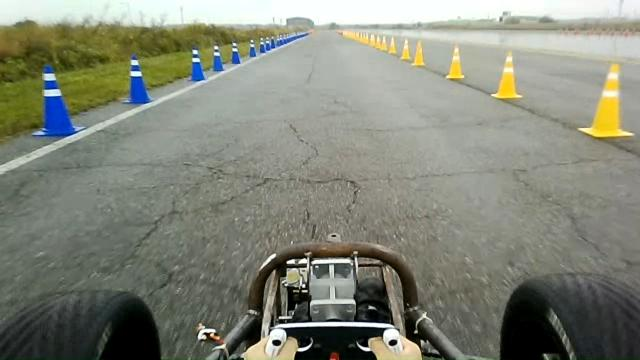blue cone: (31, 64, 86, 136), (122, 53, 154, 104), (187, 45, 206, 81), (212, 43, 224, 71), (230, 40, 241, 64), (248, 38, 257, 57)
yellow cone: (577, 62, 634, 138), (490, 50, 522, 100), (446, 46, 464, 80), (412, 40, 426, 66), (400, 38, 411, 60), (388, 36, 397, 54)
